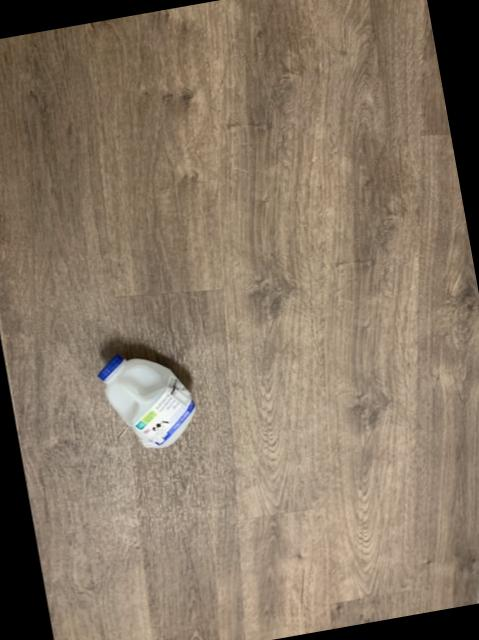plastic: (96, 356, 192, 448)
